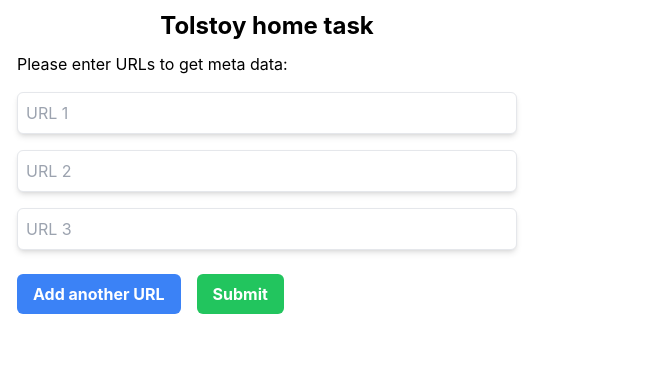
it: MultiURLForm Component › adds a new input field when "Add another URL" button is clicked
Click the button "Add another URL": (99, 294) [17,274,181,314]
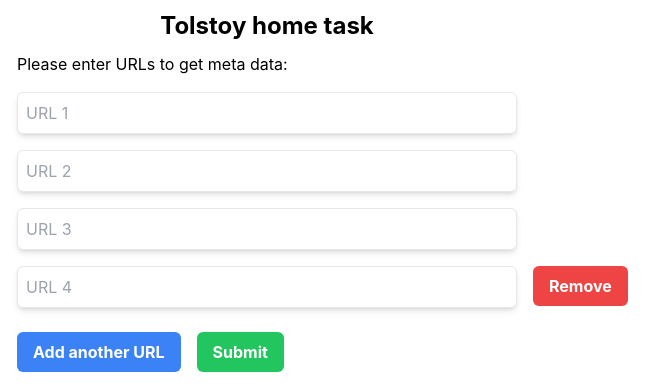
expect the number of fields with placeholder "URL 1" is 4: met, box [17,92,517,134]; [17,150,517,192]; [17,208,517,250]; [17,266,517,308]
